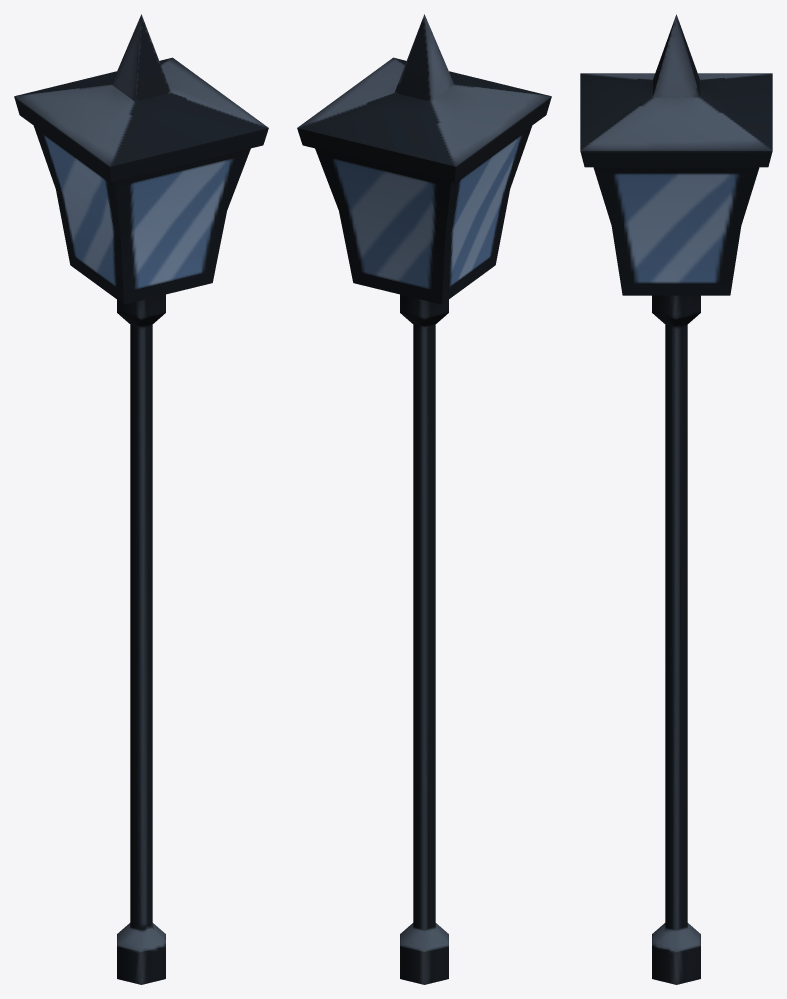
The model's file is Lantern.FBX.
The picture shows the model from 3 angles, left to right: view 1: azimuth 30°, elevation 25°; view 2: azimuth 150°, elevation 25°; view 3: azimuth 270°, elevation 25°; orthographic projection.
Visible parts, largest first — view 1: Lantern002; view 2: Lantern002; view 3: Lantern002.
Part boxes in pixels (bbox=[...]): Lantern002: bbox=[14, 14, 268, 984]; Lantern002: bbox=[297, 14, 551, 984]; Lantern002: bbox=[580, 14, 772, 984].
Bounding box in the file's own units: 23.07 × 133 × 24.23.
1 material, 1 textured.
